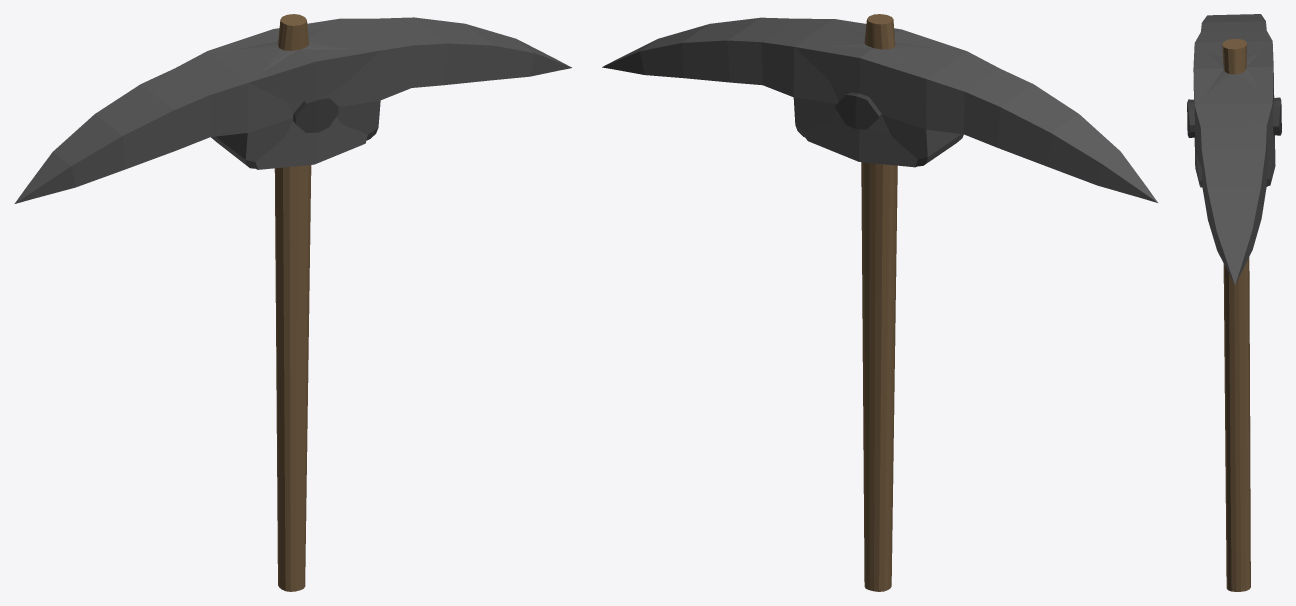
The model's file is Pickaxe.fbx.
3 views of the same model, side by side, from view 1: azimuth 30°, elevation 25°; view 2: azimuth 150°, elevation 25°; view 3: azimuth 270°, elevation 25° (orthographic). The views are drawn at different scales.
Visible parts, largest first — view 1: Cube.001; view 2: Cube.001; view 3: Cube.001.
Boxes of the visible parts, <box> form: Cube.001: <box>14,14,571,591</box>; Cube.001: <box>602,14,1157,591</box>; Cube.001: <box>1187,14,1281,591</box>.
Bounding box in the file's own units: 115 × 112 × 17.73.
